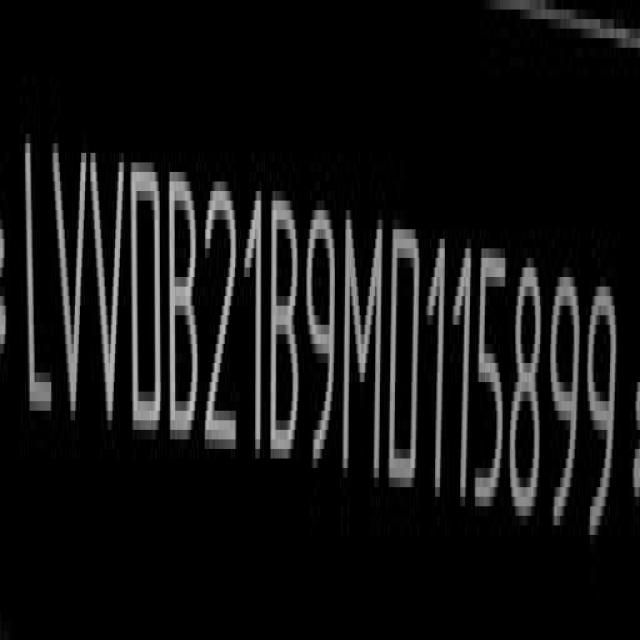1: (245, 186, 266, 464), (453, 232, 473, 506), (428, 234, 446, 501)
2: (208, 180, 240, 456)
5: (476, 238, 507, 511)
8: (512, 253, 543, 523)
9: (305, 201, 338, 473), (550, 272, 583, 538), (588, 286, 620, 544)
B: (170, 171, 203, 449), (270, 191, 301, 466)
D: (130, 152, 162, 438), (391, 216, 423, 491)
L: (22, 126, 51, 428)
M: (343, 207, 384, 487)
V: (91, 144, 129, 440), (53, 140, 89, 436)
